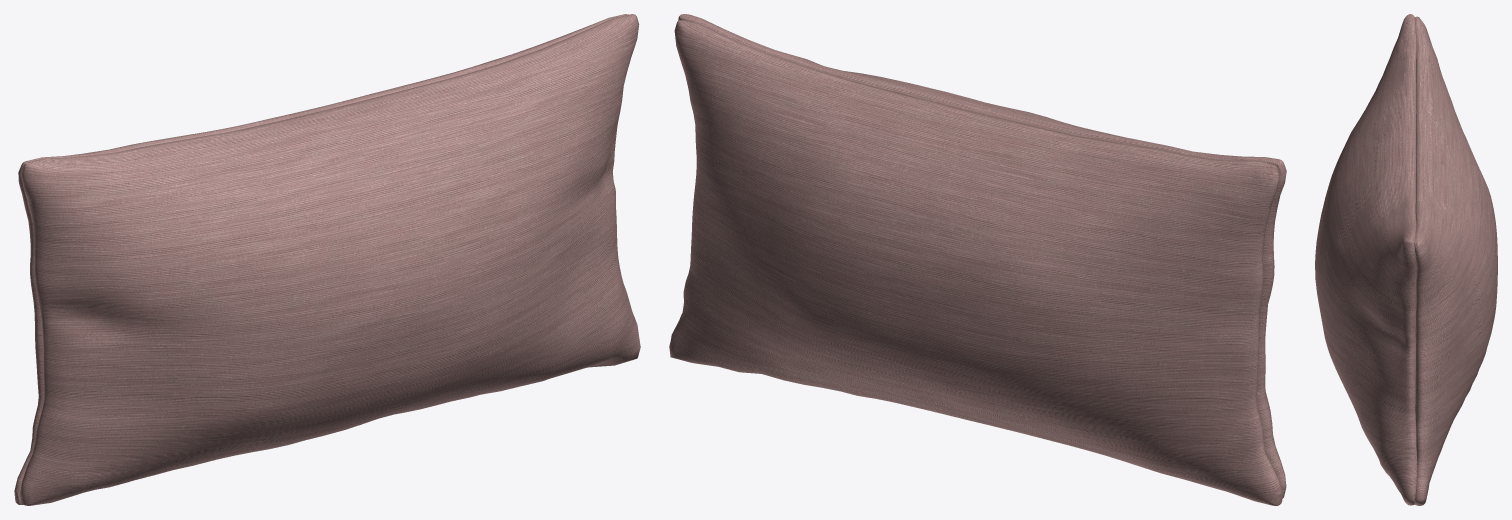
File: B074VMBGSZ.glb
3 views of the same model, side by side, from view 1: azimuth 30°, elevation 25°; view 2: azimuth 150°, elevation 25°; view 3: azimuth 270°, elevation 25° (orthographic). The views are drawn at different scales.
Visible parts, largest first — view 1: RootNode; view 2: RootNode; view 3: RootNode.
Part boxes in pixels (bbox=[...]): RootNode: bbox=[14, 14, 640, 505]; RootNode: bbox=[669, 14, 1286, 505]; RootNode: bbox=[1315, 14, 1497, 505].
Bounding box in the file's own units: 0.6326 × 0.3378 × 0.2104.
1 material, 1 textured.
